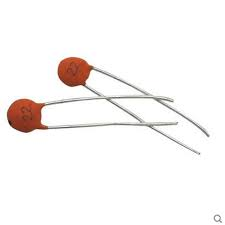ceramic capacitor: (1, 92, 86, 160), (33, 38, 109, 89)
